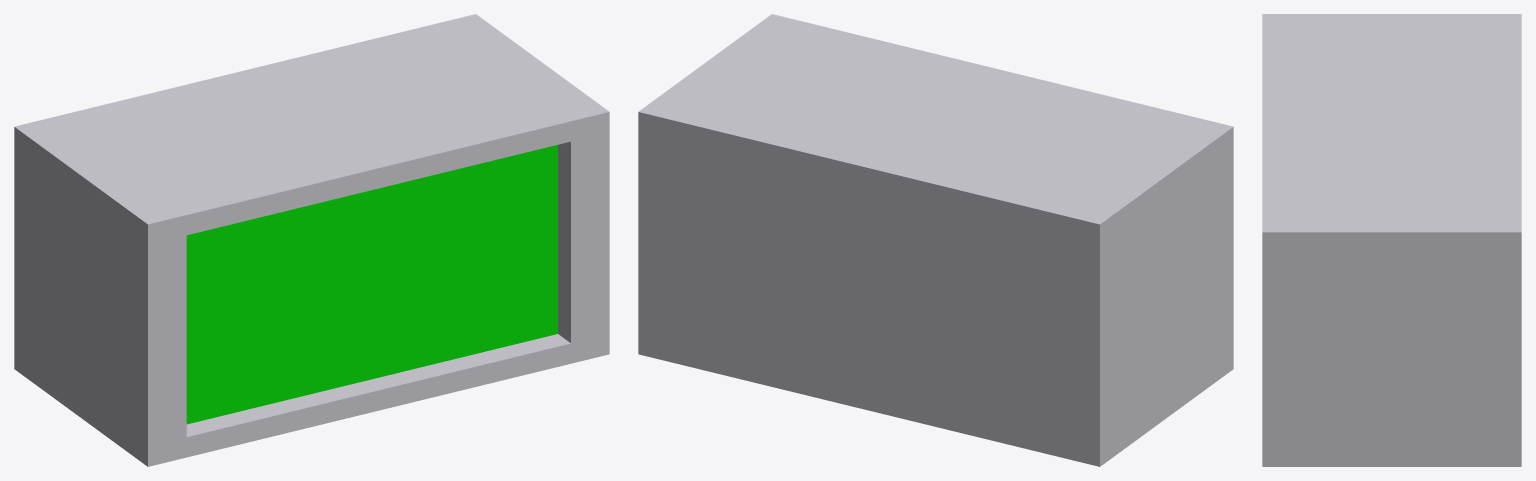
File: télé-test3.glb
3 views of the same model, side by side, from view 1: azimuth 30°, elevation 25°; view 2: azimuth 150°, elevation 25°; view 3: azimuth 270°, elevation 25° (orthographic). The views are drawn at different scales.
Visible parts, largest first — view 1: tele, screen; view 2: tele; view 3: tele.
Boxes of the visible parts, x1,y1,x2,y2 form: tele: [14, 14, 609, 466]; screen: [186, 145, 557, 424]; tele: [638, 14, 1233, 466]; tele: [1262, 14, 1521, 466].
Size of the model in its own units: 3.99 by 2 by 2.
